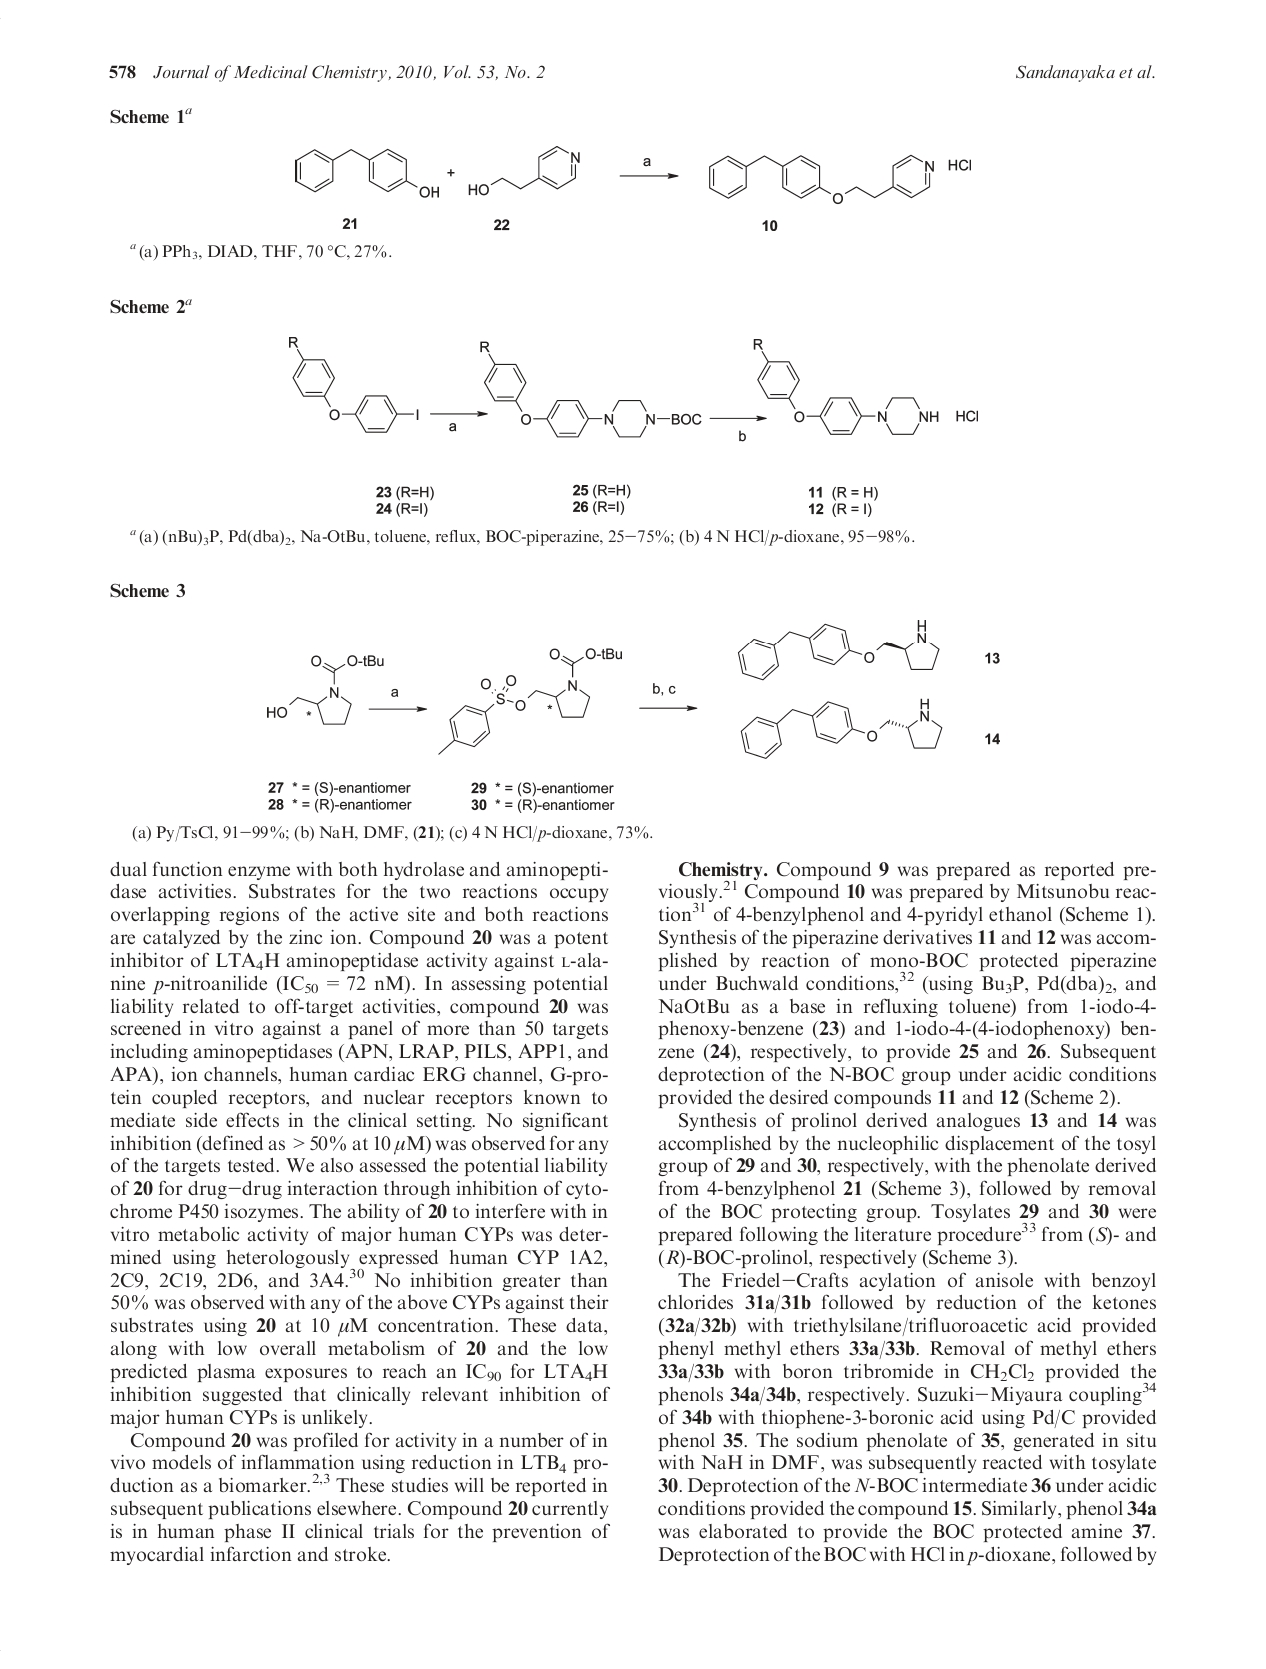exist_molecular: (749, 336, 981, 438), (477, 338, 702, 439), (438, 645, 625, 759), (706, 154, 973, 206), (285, 332, 422, 434), (741, 696, 944, 759), (735, 618, 942, 681), (265, 653, 386, 727), (291, 146, 442, 199), (465, 144, 582, 199)
